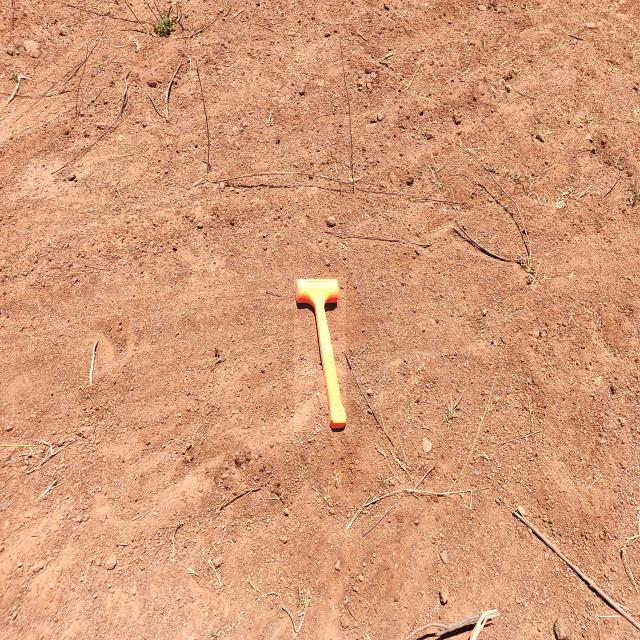Orange_hammer: (294, 277, 346, 432)
